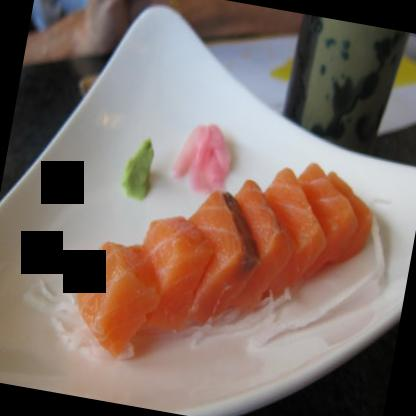salmon: (57, 236, 169, 373), (168, 190, 262, 338), (124, 201, 216, 346), (282, 163, 380, 295), (210, 181, 300, 323), (250, 167, 334, 295)
